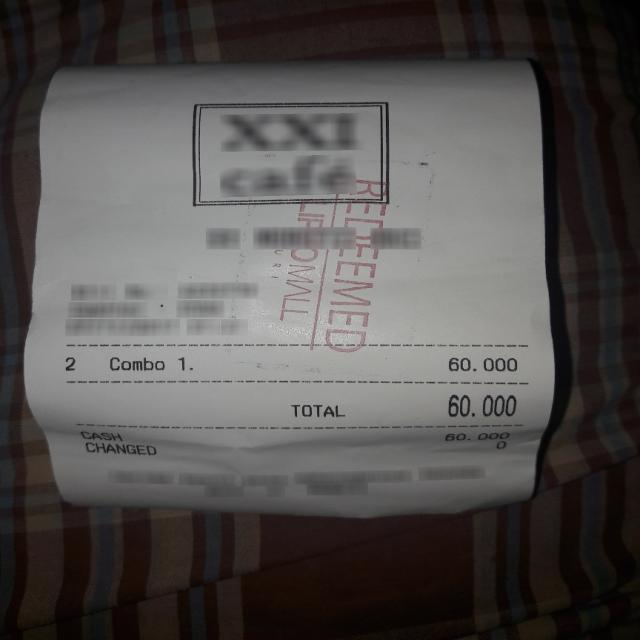kertas: (18, 58, 557, 524)
